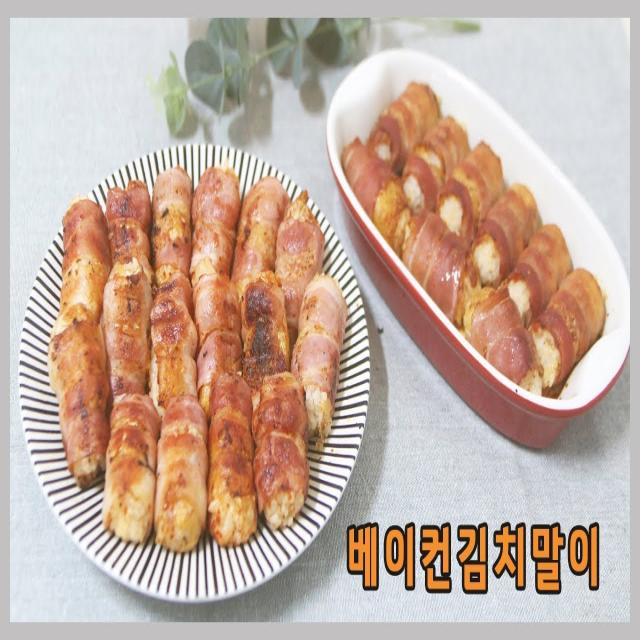Bacon Slice: (48, 167, 345, 542), (378, 81, 540, 281), (548, 268, 607, 362), (516, 223, 574, 317), (151, 166, 191, 272)
